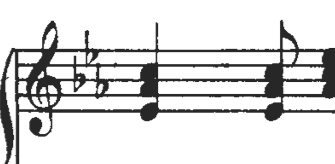flat: (67, 51, 89, 96), (83, 23, 102, 72), (92, 62, 112, 105)
treble_clef: (19, 19, 67, 143)
